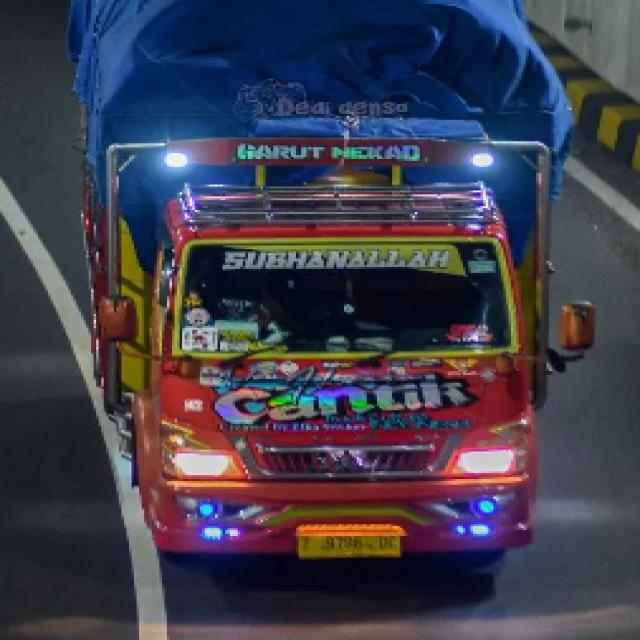Truck: (36, 0, 622, 615)
